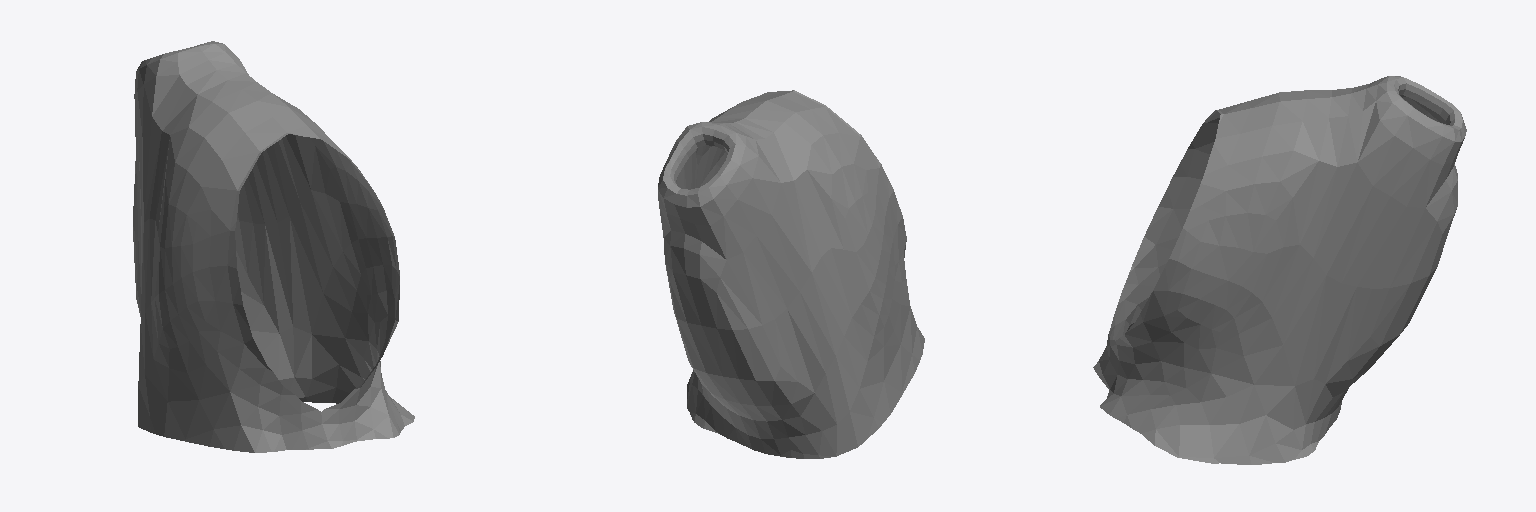
File: pied_arriere_droit.obj
3 views of the same model, side by side, from view 1: azimuth 30°, elevation 25°; view 2: azimuth 150°, elevation 25°; view 3: azimuth 270°, elevation 25° (orthographic).
Visible parts, largest first — view 1: Cube.001_Cube.001; view 2: Cube.001_Cube.001; view 3: Cube.001_Cube.001.
Part boxes in pixels (x1,y1,x2,y2): Cube.001_Cube.001: (133,41,414,452); Cube.001_Cube.001: (658,90,924,458); Cube.001_Cube.001: (1093,76,1466,464).
Size of the model in its own units: 0.6002 by 0.9095 by 0.8988.